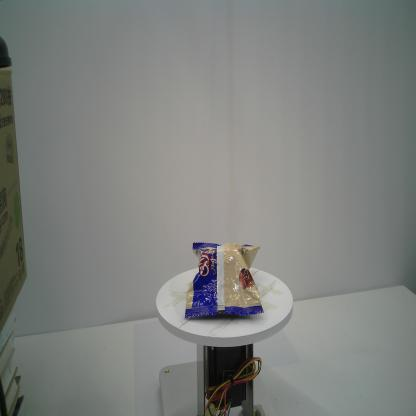Dessert: (181, 240, 266, 321)
